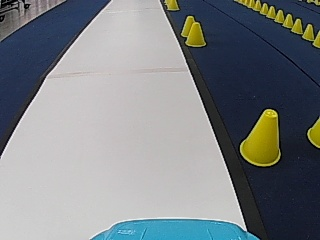cone: (239, 108, 281, 166), (185, 22, 206, 47), (307, 117, 319, 147), (180, 15, 197, 36), (301, 24, 314, 40), (291, 18, 302, 34), (282, 13, 293, 28), (166, 0, 179, 11), (274, 9, 284, 22), (312, 31, 319, 47), (266, 6, 275, 18), (259, 3, 268, 14), (252, 0, 260, 10)
